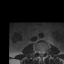CCS_normal: (40, 49, 42, 57)
LFS_normal: (44, 49, 46, 54)
LLS_normal: (42, 50, 44, 55)
RFS_normal: (37, 49, 39, 54)
RLS_normal: (39, 50, 40, 55)
